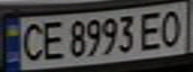3: (115, 11, 139, 54)
8: (66, 17, 87, 59)
9: (81, 16, 103, 57), (100, 15, 121, 56)
C: (18, 19, 45, 63)
E: (36, 18, 66, 63), (136, 8, 166, 51)
O: (157, 7, 187, 48)
